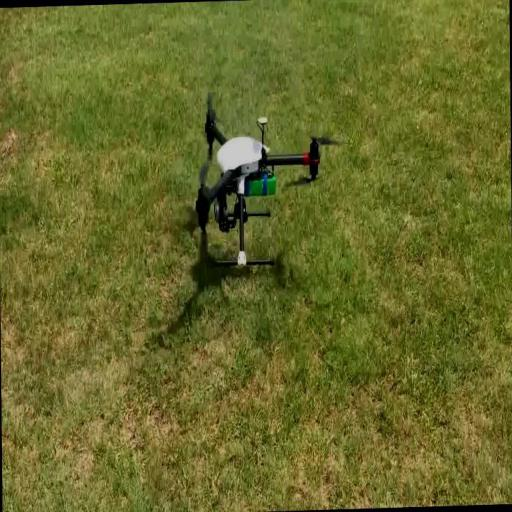drone: (196, 94, 344, 270)
